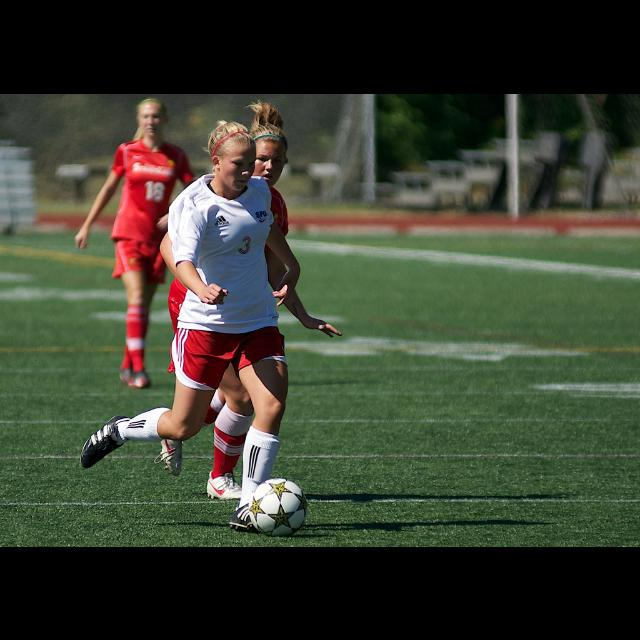Football: (244, 476, 306, 534)
